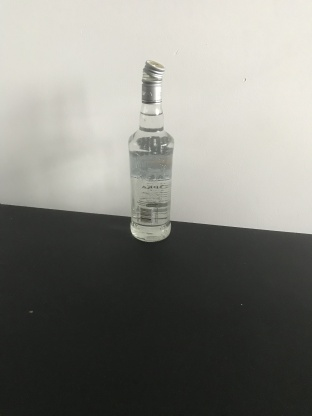nakretka: (140, 58, 165, 104)
